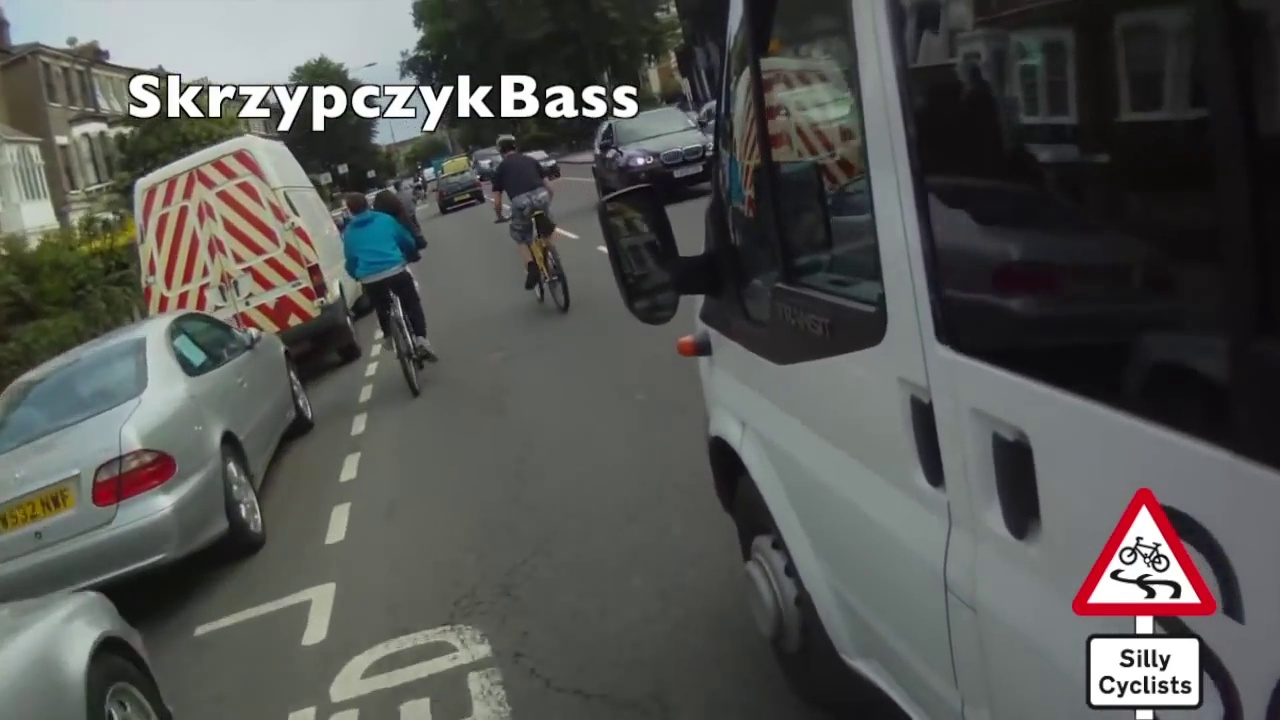cyclist_back: (338, 192, 450, 405), (483, 136, 576, 314)
